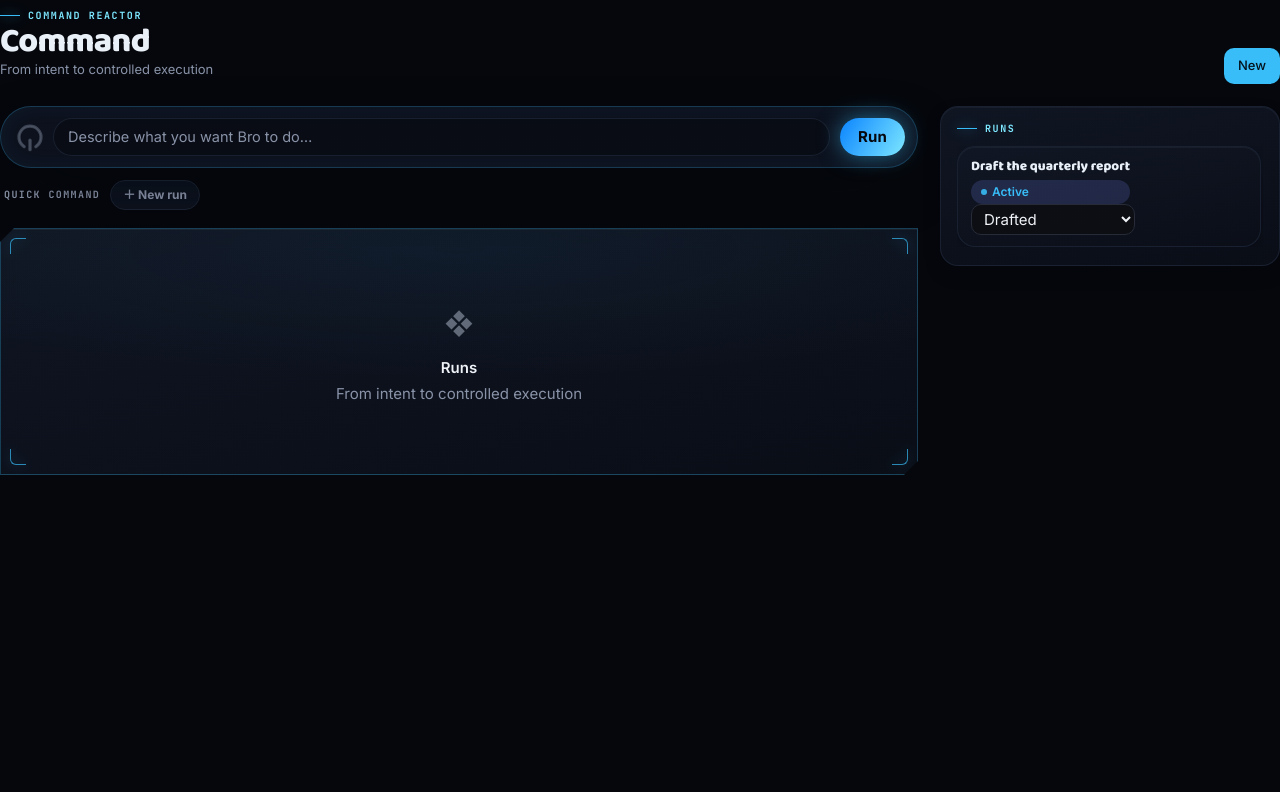
it: Command — what the backend sends down the channel › a failure delivered as an error FRAME is shown as a failure
What coordinates should you click on to do the following:
click the button "Draft the quarterly report Active"
I would click on:
 (1051, 181)
Its box is [971,158,1130,204].
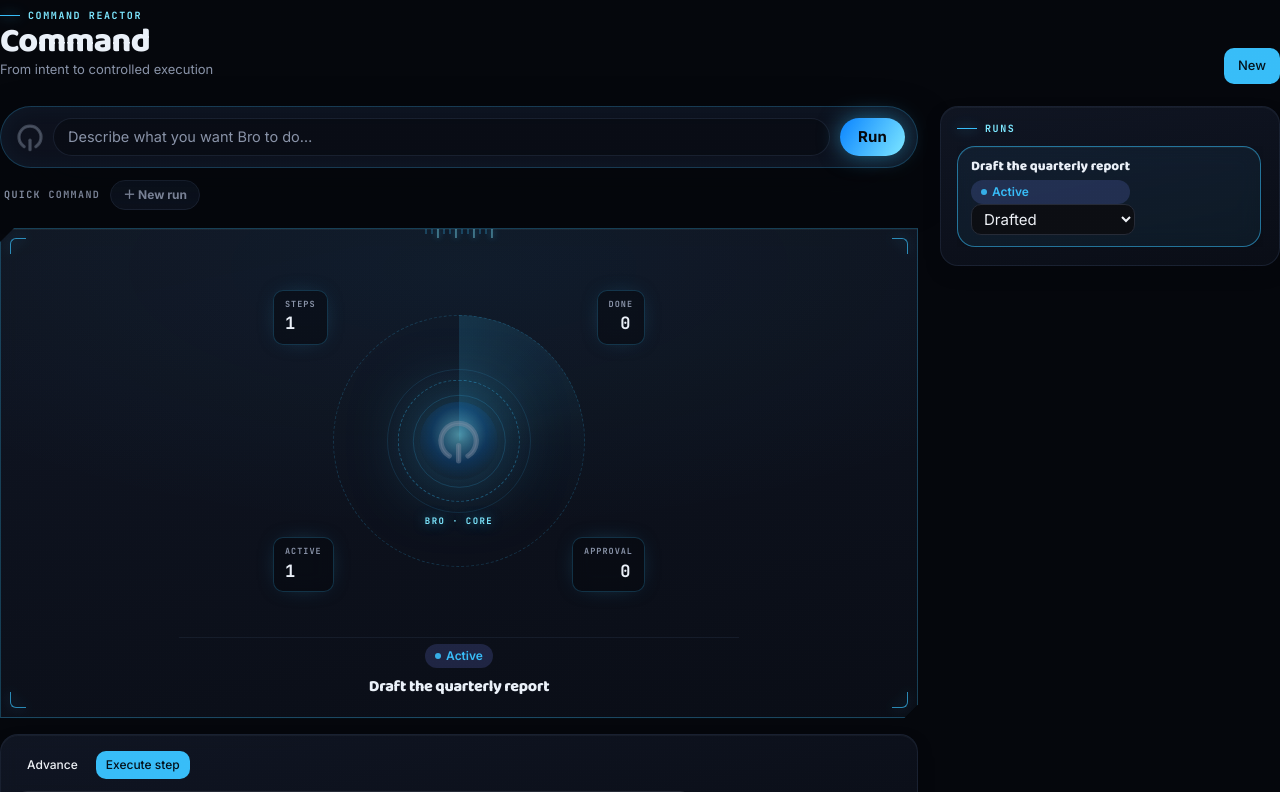
What coordinates should you click on to do the following:
click the button "Execute step"
I would click on:
 (143, 766)
Its box is [96,752,190,780].
(page scrolled)
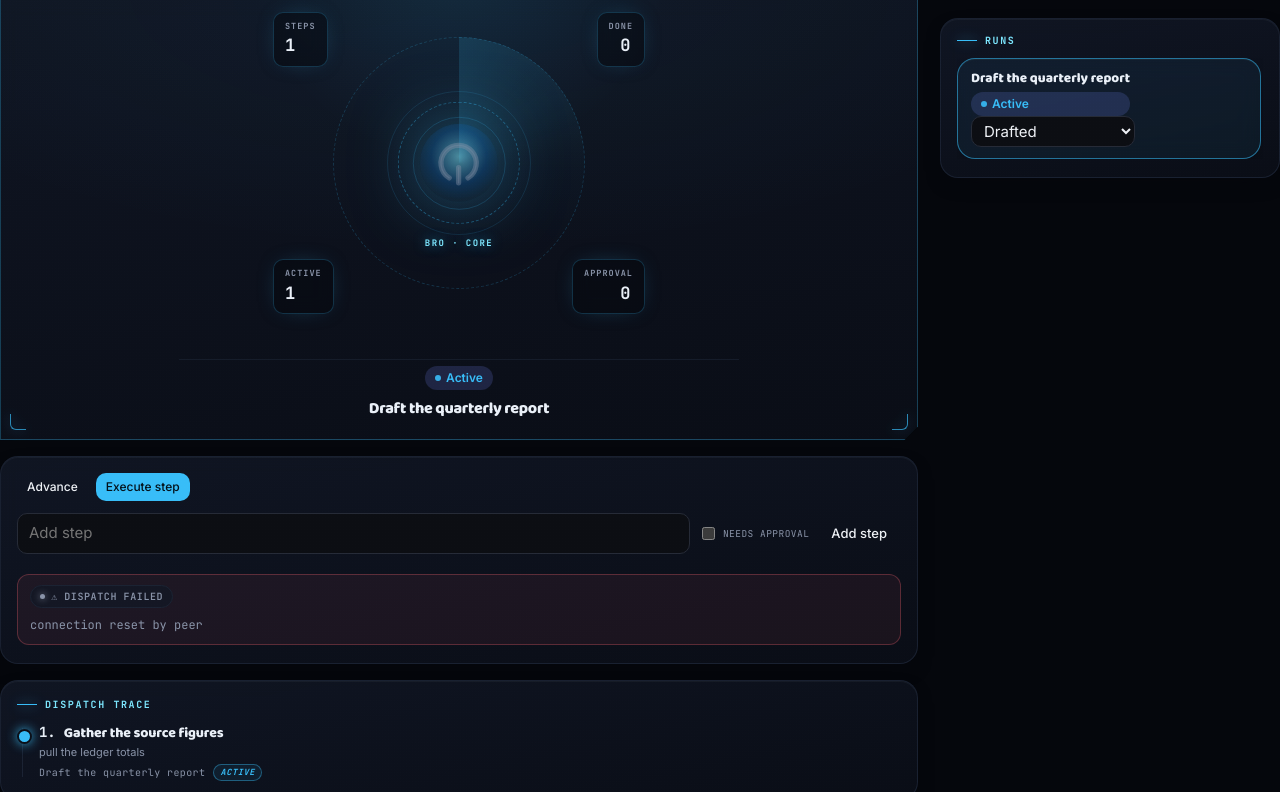
Expected: the message shows "connection reset by peer", [30,617,203,633]
